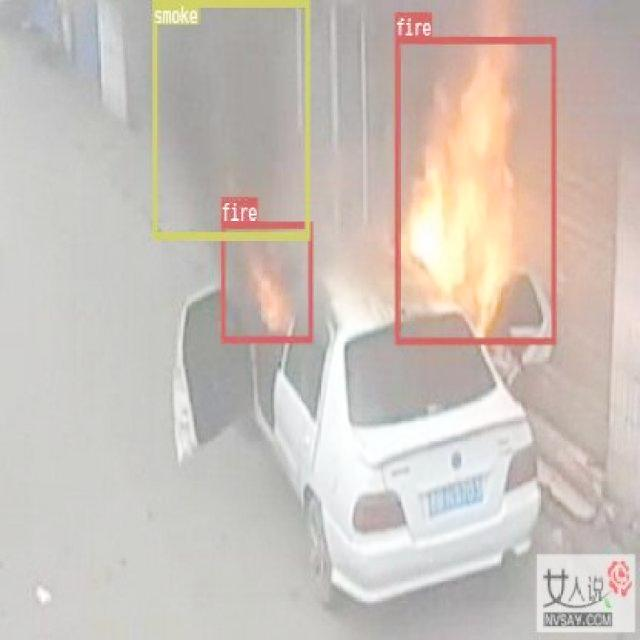fire: (394, 35, 556, 342), (220, 222, 311, 342)
smoke: (152, 0, 309, 238)
